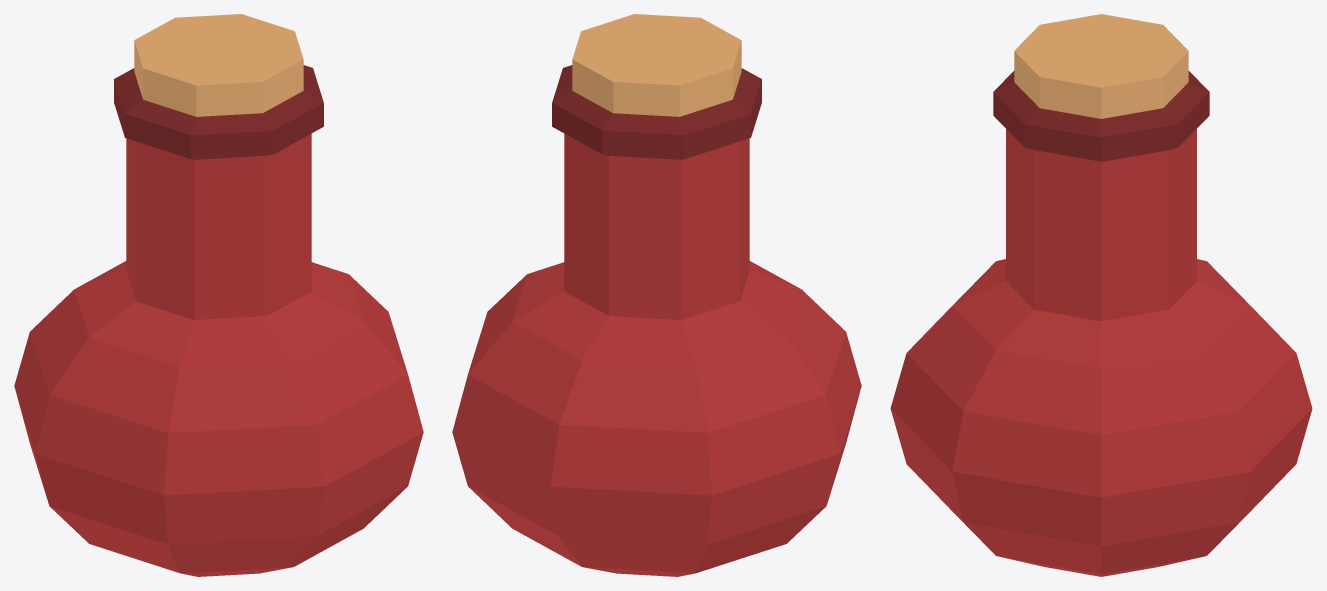
File: HealingPotion.glb
3 views of the same model, side by side, from view 1: azimuth 30°, elevation 25°; view 2: azimuth 150°, elevation 25°; view 3: azimuth 270°, elevation 25° (orthographic).
Visible parts, largest first — view 1: Item, Neck, Cork, Lip; view 2: Item, Neck, Cork, Lip; view 3: Item, Neck, Cork, Lip.
Part boxes in pixels (x1,y1,x2,y2): Item: (14, 261, 423, 576); Neck: (126, 133, 311, 319); Cork: (134, 14, 303, 116); Lip: (114, 65, 323, 159); Item: (452, 261, 861, 576); Neck: (564, 133, 749, 319); Cork: (572, 14, 741, 116); Lip: (552, 65, 761, 159); Item: (890, 259, 1312, 576); Neck: (1006, 129, 1196, 321); Cork: (1014, 14, 1188, 118); Lip: (993, 71, 1209, 161).
Size of the model in its own units: 1.45 by 1.91 by 1.45.
Materials: 4 (4 with a texture image).
